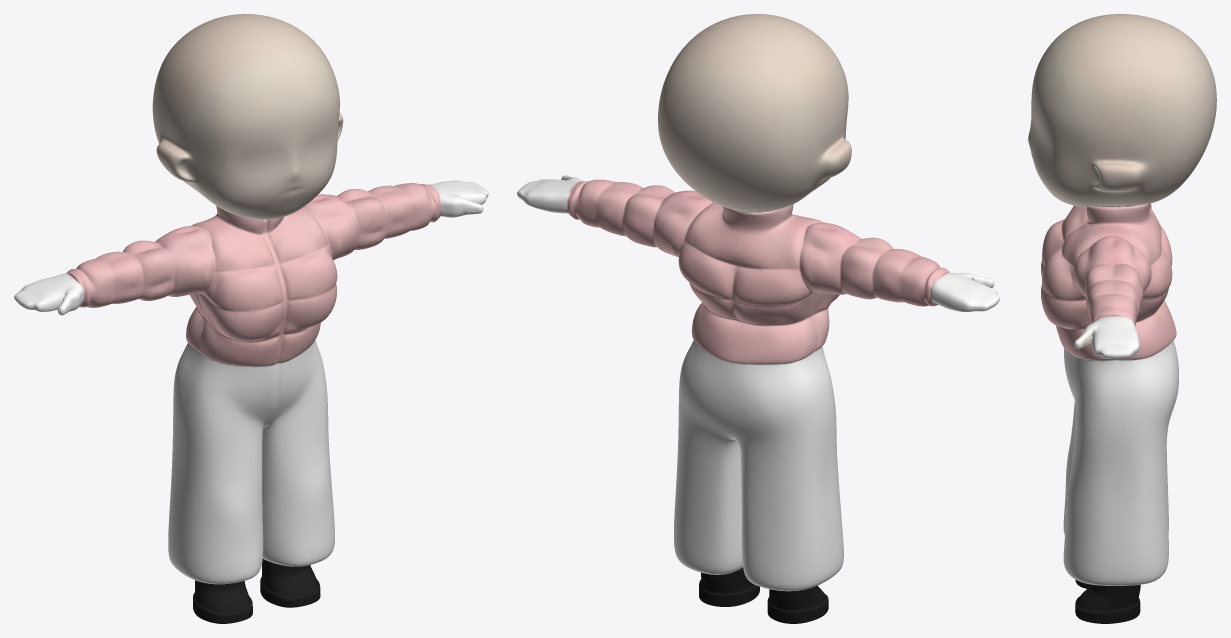
Rendered from baked_outfit_puffer.glb.
3 renders of one model, left to right at view 1: azimuth 30°, elevation 25°; view 2: azimuth 150°, elevation 25°; view 3: azimuth 270°, elevation 25°, orthographic.
Bounding box in the file's own units: 1.61 × 1.9 × 0.5679.
1 material, 1 textured.
